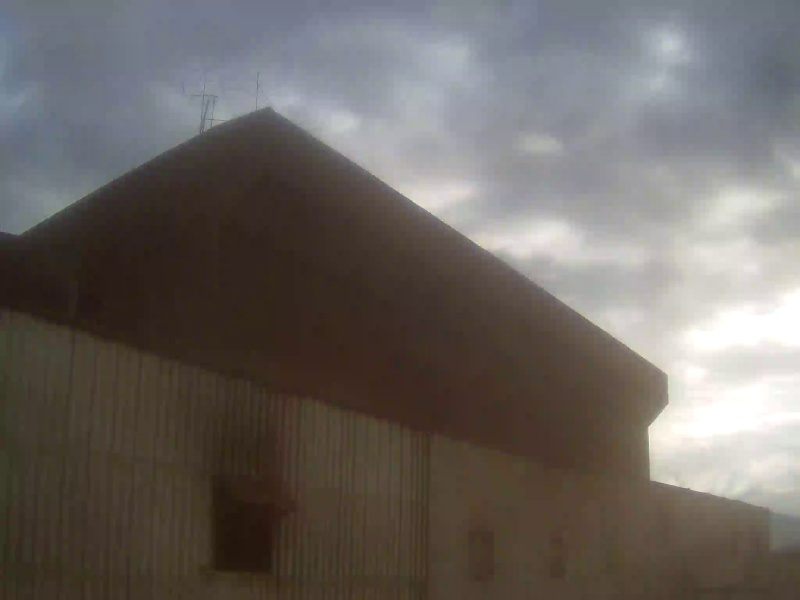bom: (262, 43, 750, 410), (5, 9, 260, 168)
